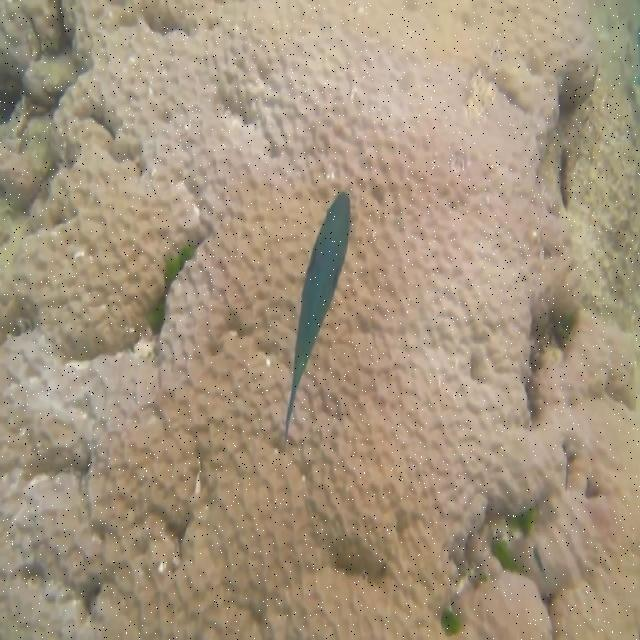fish: (284, 191, 350, 442)
